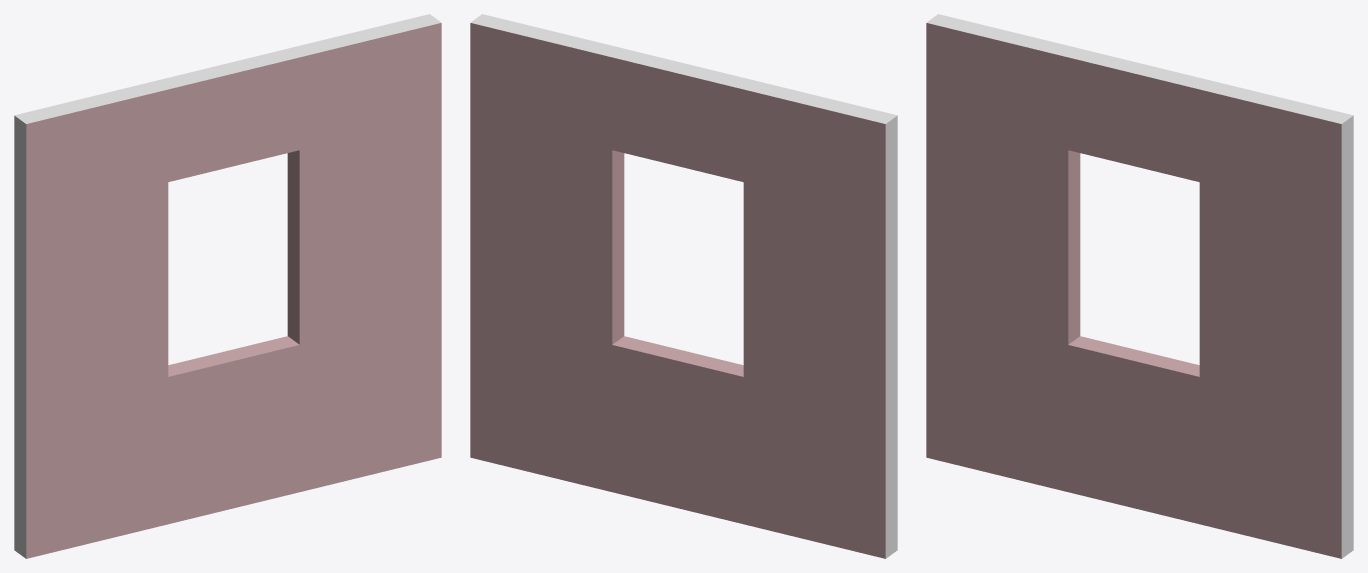
Rendered from wall_052.fbx.
3 views of the same model, side by side, from view 1: azimuth 30°, elevation 25°; view 2: azimuth 150°, elevation 25°; view 3: azimuth 330°, elevation 25° (orthographic).
Visible parts, largest first — view 1: wall_052; view 2: wall_052; view 3: wall_052.
Part boxes in pixels (box(x1,y1,x2,y2)): wall_052: box(14, 14, 441, 558); wall_052: box(470, 14, 897, 558); wall_052: box(926, 14, 1353, 558).
Bounding box in the file's own units: 400 × 20 × 400.
